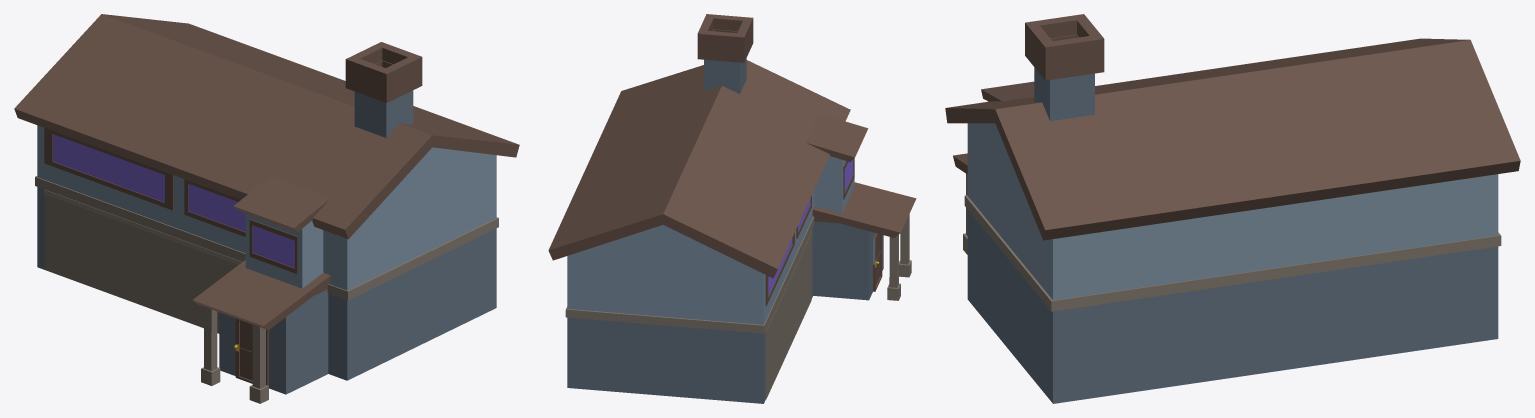
Rendered from CALLE2_CASA_2_002.fbx.
The picture shows the model from 3 angles, left to right: view 1: azimuth 30°, elevation 25°; view 2: azimuth 150°, elevation 25°; view 3: azimuth 270°, elevation 25°; orthographic projection. The views are drawn at different scales.
Parts seen in each view (by area): view 1: CASA 2.002; view 2: CASA 2.002; view 3: CASA 2.002.
Boxes of the visible parts, box(x1,y1,x2,y2) form: CASA 2.002: box(14, 14, 519, 403); CASA 2.002: box(548, 14, 916, 403); CASA 2.002: box(945, 14, 1520, 403).
Size of the model in its own units: 894 by 680 by 1134.
